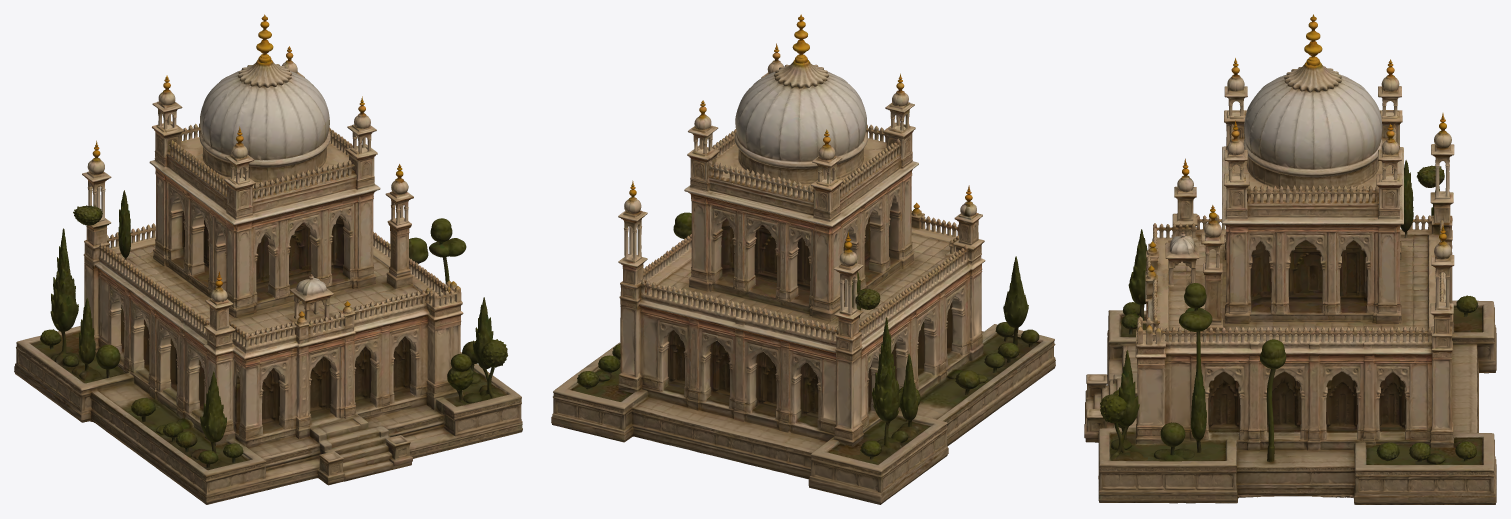
Rendered from mughal.glb.
3 renders of one model, left to right at view 1: azimuth 30°, elevation 25°; view 2: azimuth 150°, elevation 25°; view 3: azimuth 270°, elevation 25°, orthographic. The views are drawn at different scales.
Visible parts, largest first — view 1: tripo_node_d4dc2d2e-27b8-4f8e-8b4b-8ac5e3a96bda; view 2: tripo_node_d4dc2d2e-27b8-4f8e-8b4b-8ac5e3a96bda; view 3: tripo_node_d4dc2d2e-27b8-4f8e-8b4b-8ac5e3a96bda.
Boxes of the visible parts, x1,y1,x2,y2 form: tripo_node_d4dc2d2e-27b8-4f8e-8b4b-8ac5e3a96bda: (14, 14, 522, 504); tripo_node_d4dc2d2e-27b8-4f8e-8b4b-8ac5e3a96bda: (551, 14, 1055, 504); tripo_node_d4dc2d2e-27b8-4f8e-8b4b-8ac5e3a96bda: (1084, 14, 1496, 504).
Size of the model in its own units: 0.8765 by 0.9843 by 0.9005.
Materials: 1 (1 with a texture image).
